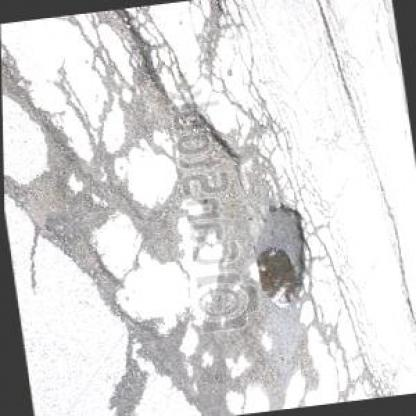pothole: (246, 201, 320, 316), (192, 105, 242, 172)
